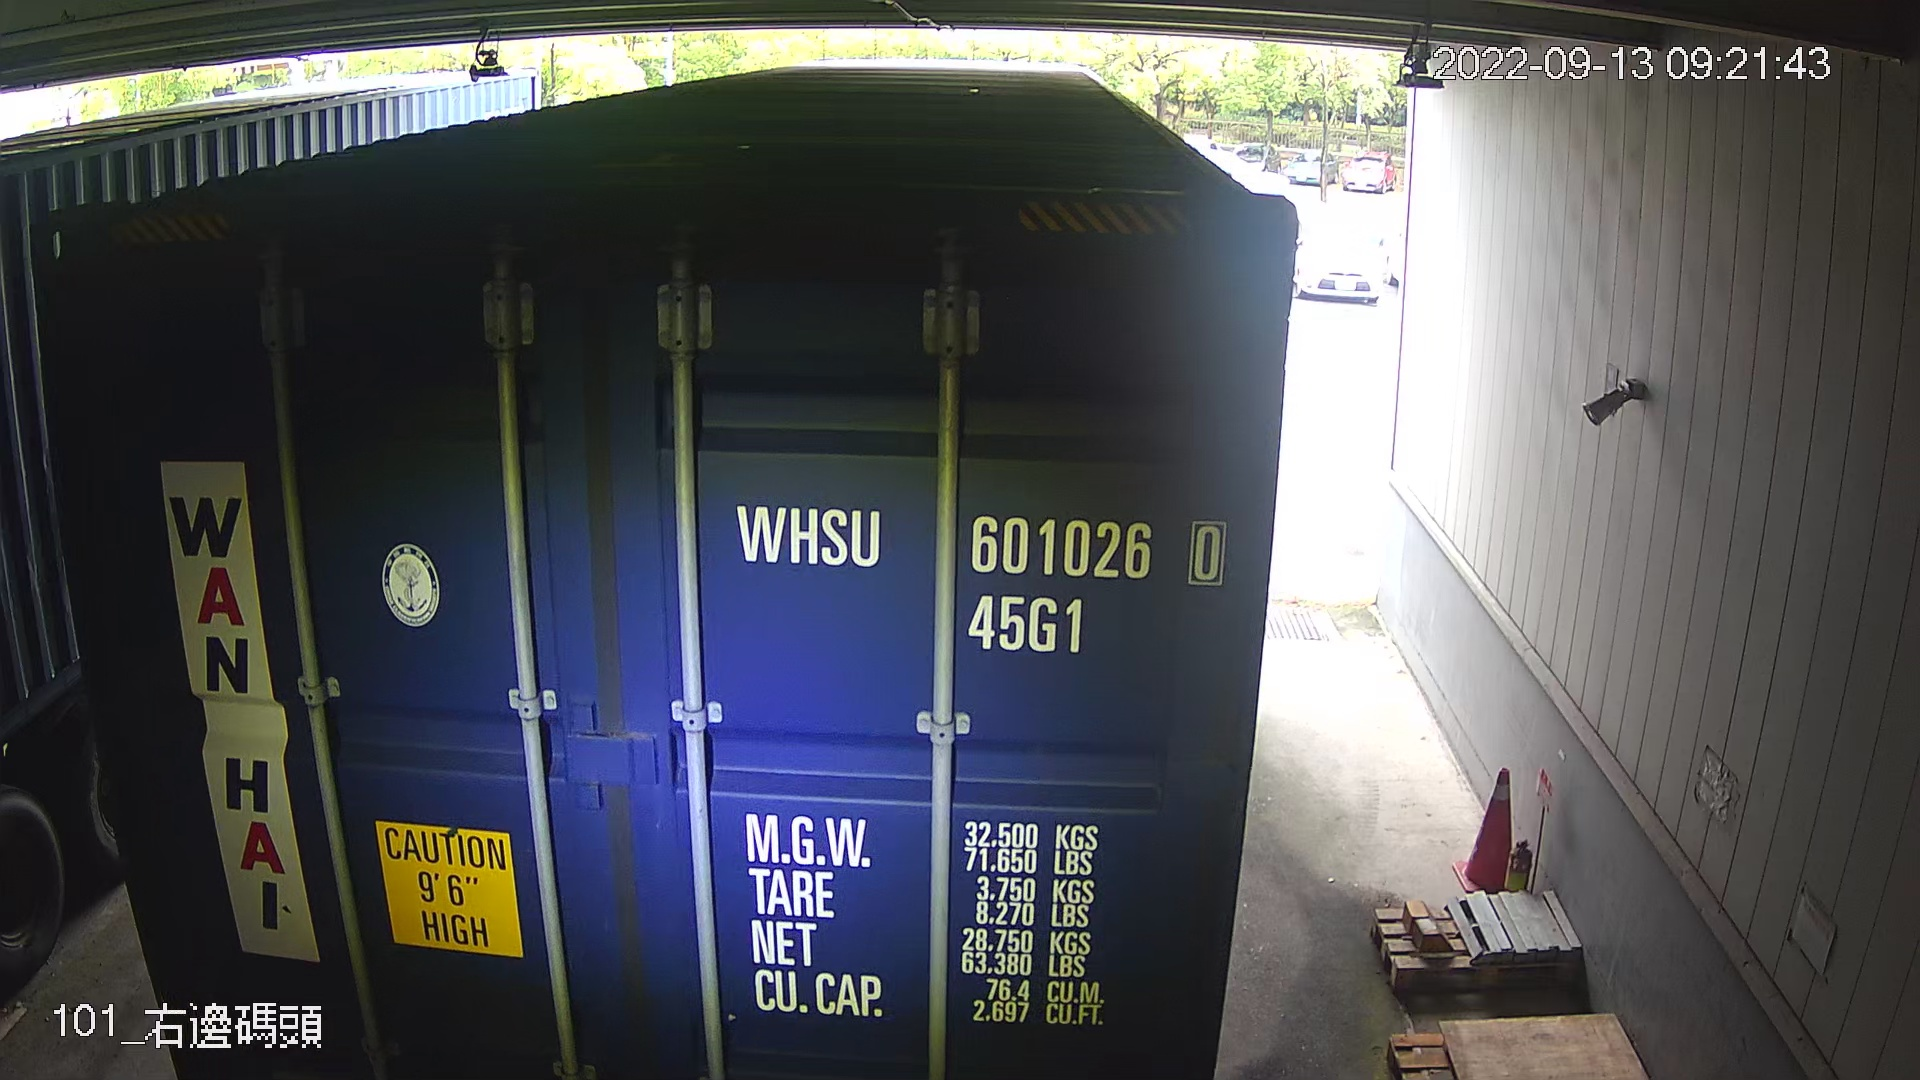container: (723, 476, 1240, 666)
